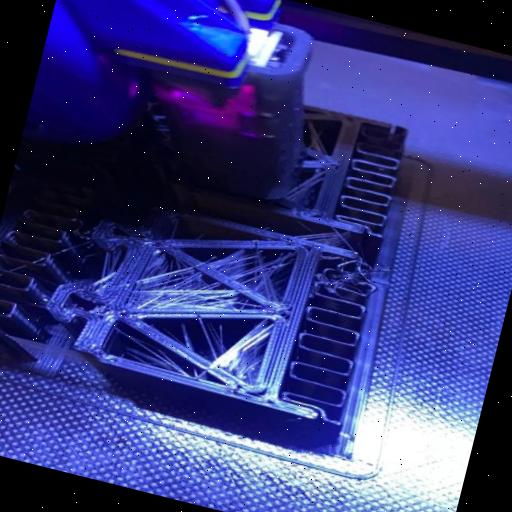stringing: (204, 317, 265, 377), (115, 329, 188, 372), (165, 276, 232, 314), (240, 251, 284, 292), (157, 264, 201, 302), (196, 321, 233, 362), (221, 250, 257, 279), (131, 288, 170, 314), (141, 270, 167, 292)
